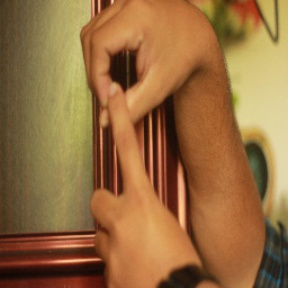Q: (77, 2, 222, 279)
